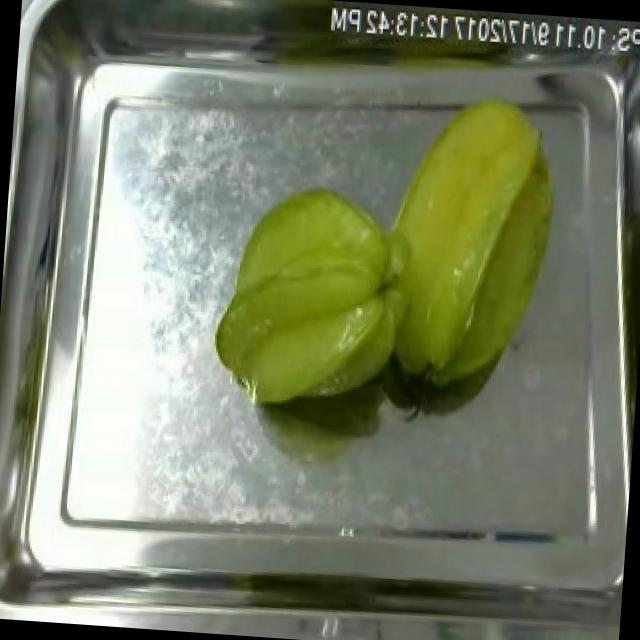fruit: (364, 79, 576, 416), (202, 172, 420, 428)
